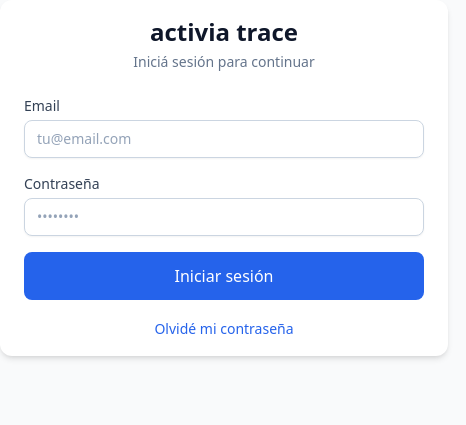
Test: LoginPage › shows validation error for empty fields
This screenshot has width=466, height=425.
Click the button "Iniciar sesión" at (224, 276), box top-left (24, 252), bottom-right (424, 300)
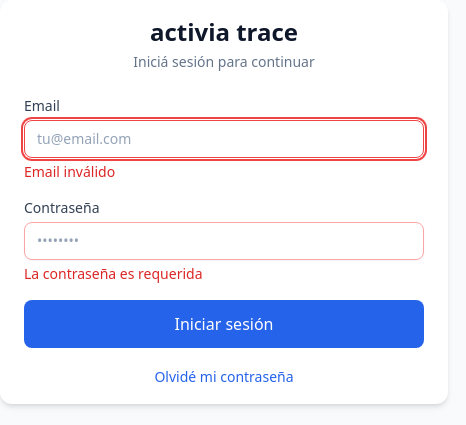
Check: the text "Email inválido" is shown, box top-left (24, 162), bottom-right (115, 181)
